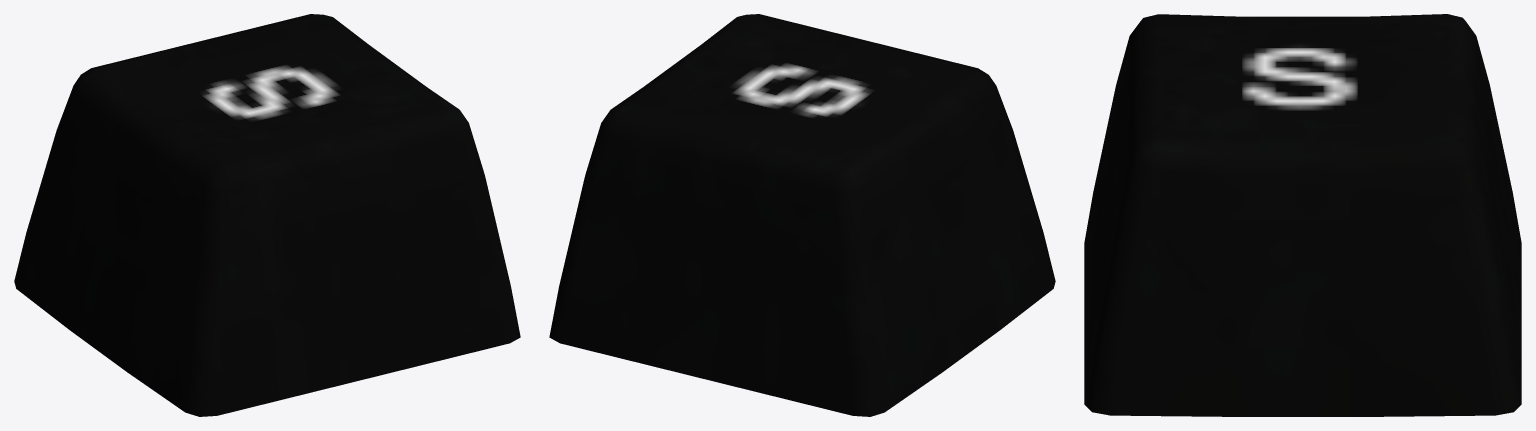
The picture shows the model from 3 angles, left to right: view 1: azimuth 30°, elevation 25°; view 2: azimuth 150°, elevation 25°; view 3: azimuth 270°, elevation 25°; orthographic projection. The views are drawn at different scales.
Visible parts, largest first — view 1: S; view 2: S; view 3: S.
Boxes of the visible parts, x1,y1,x2,y2 form: S: (14,14,520,416); S: (549,14,1055,416); S: (1084,14,1521,416).
Bounding box in the file's own units: 0.0231 × 0.0145 × 0.0228.
Materials: 1 (1 with a texture image).
